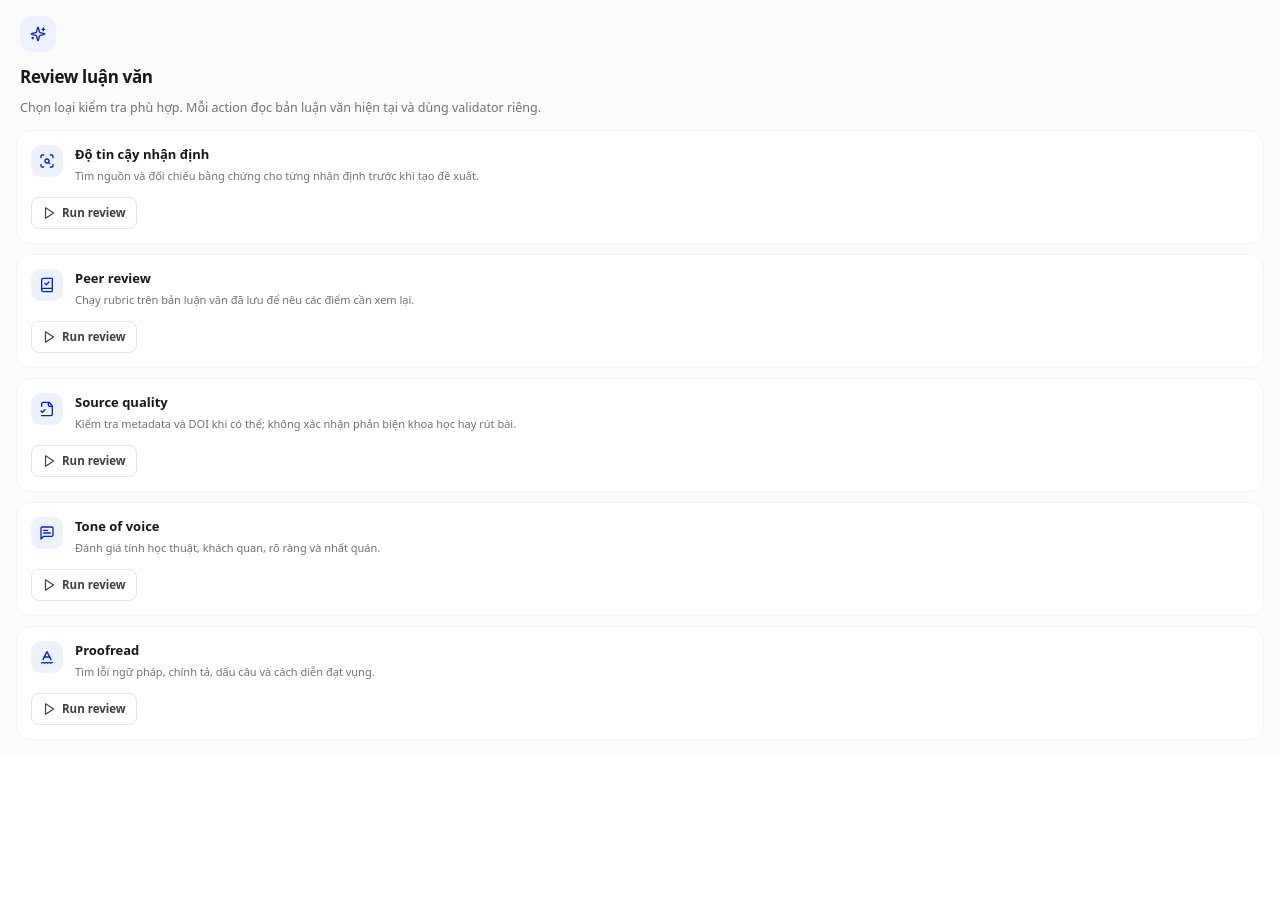
Test: ReviewPanel › shows the quoted evidence without duplicating findings as generic questions
Click the button "Run review" below "Độ tin cậy nhận định" at (84, 212), box [31,196,137,228]
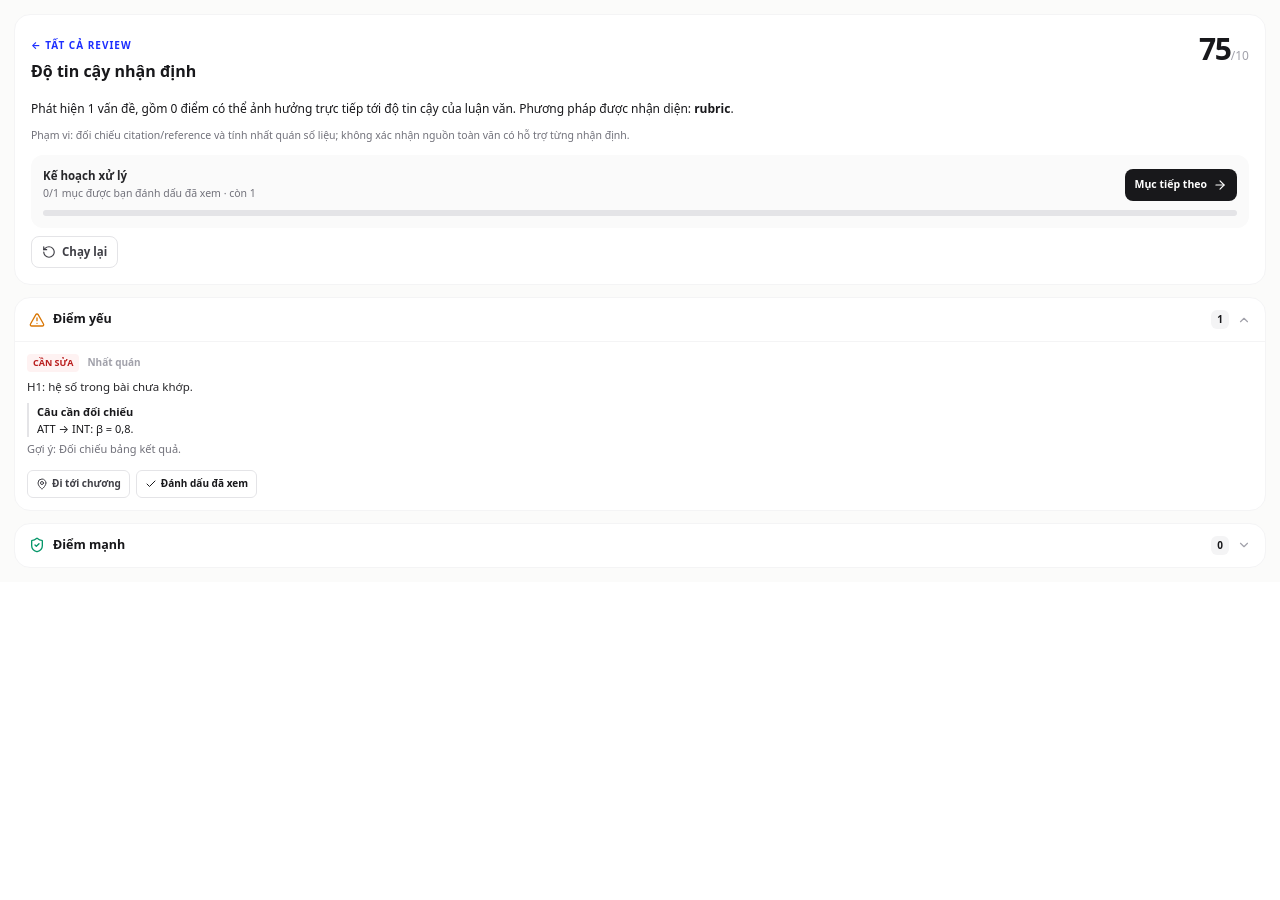
Now the text "ATT → INT: β = 0,8." is shown, box [37,421,133,436]
Now the text "Câu cần đối chiếu" is shown, box [37,404,133,419]
